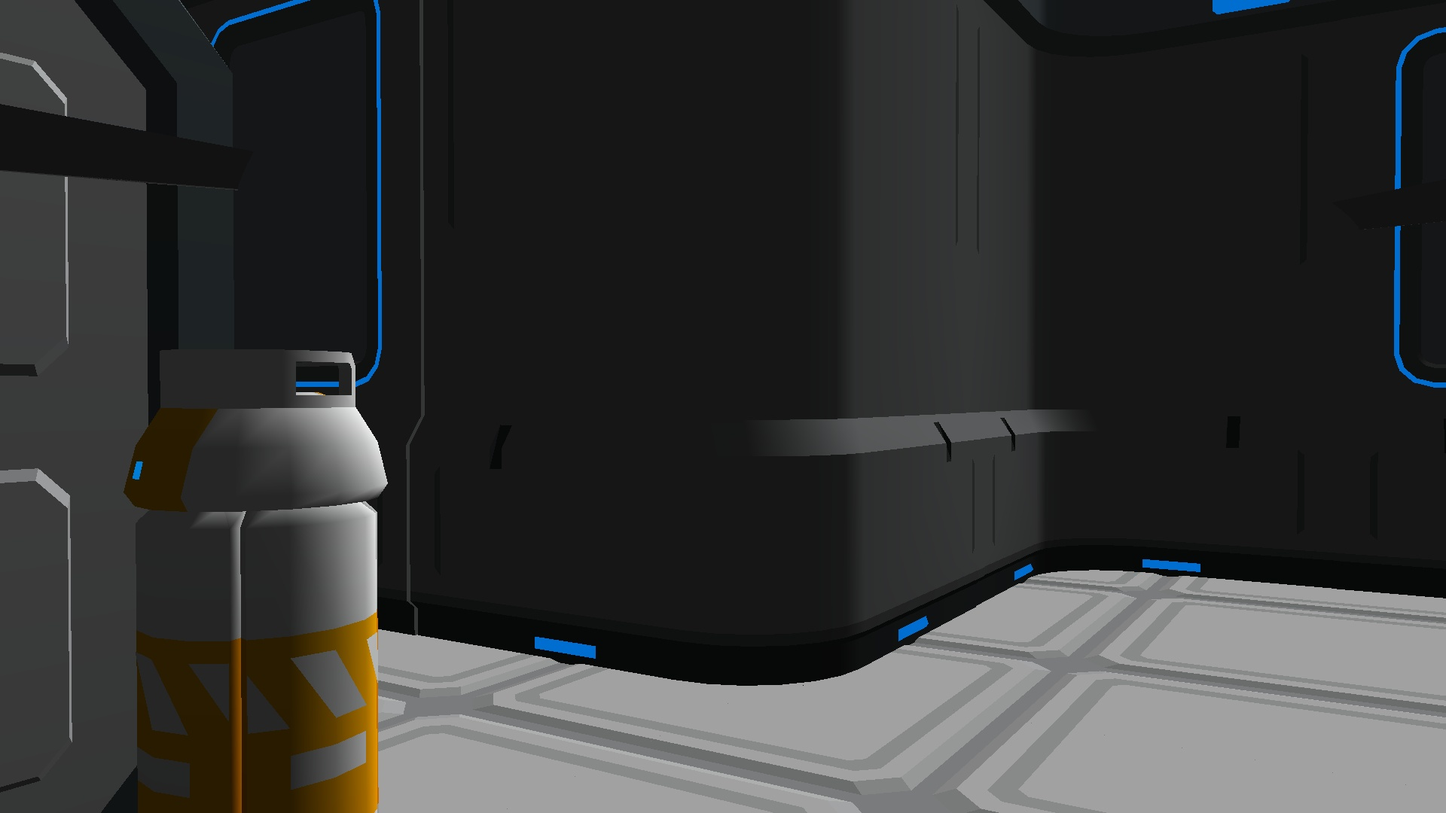yellow barrel: (123, 349, 389, 813)
